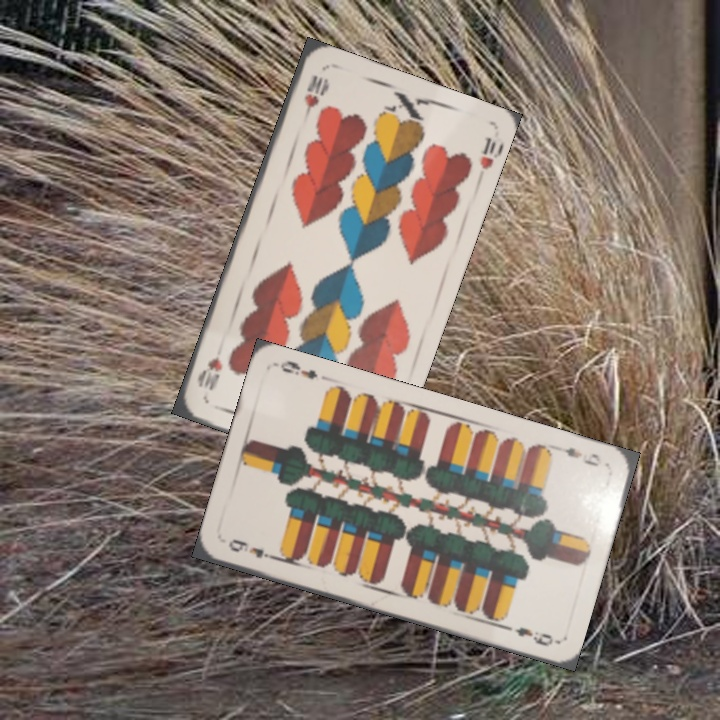E9: (224, 534, 279, 563), (552, 442, 605, 469)
H10: (298, 71, 328, 125)
